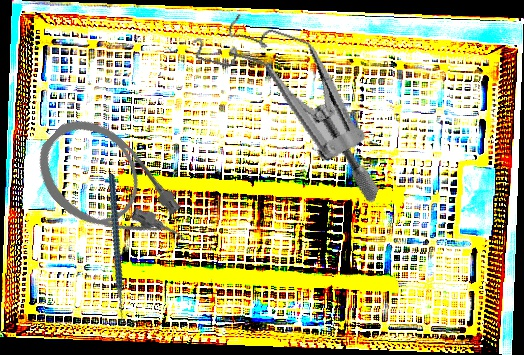Cannula: (20, 102, 206, 284)
Chopper: (72, 173, 169, 328)
Speculum: (162, 0, 420, 205)
